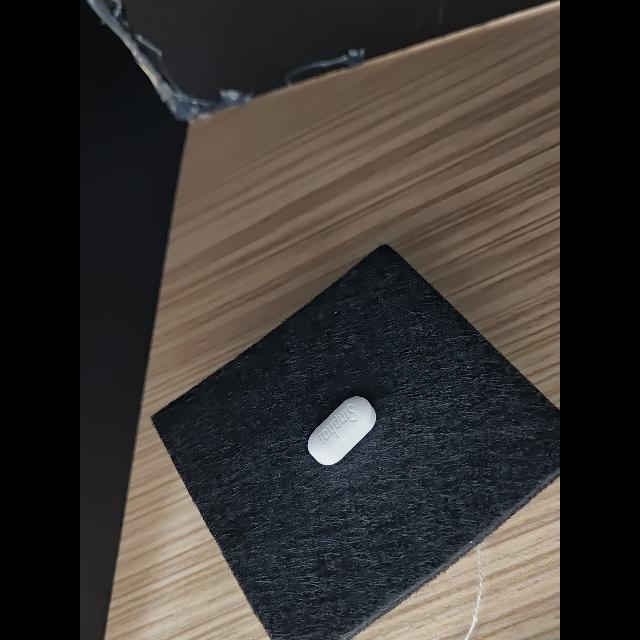Intact Pill: (308, 396, 376, 465)
